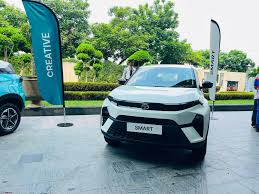Tata Nexon: (98, 60, 213, 168)
